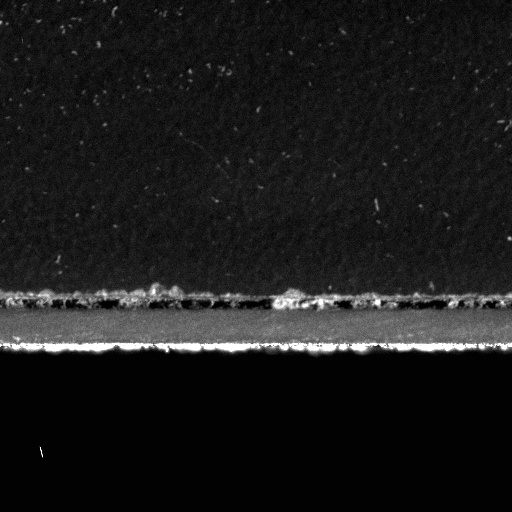jiaofeng: (4, 290, 273, 319), (333, 295, 451, 316)
